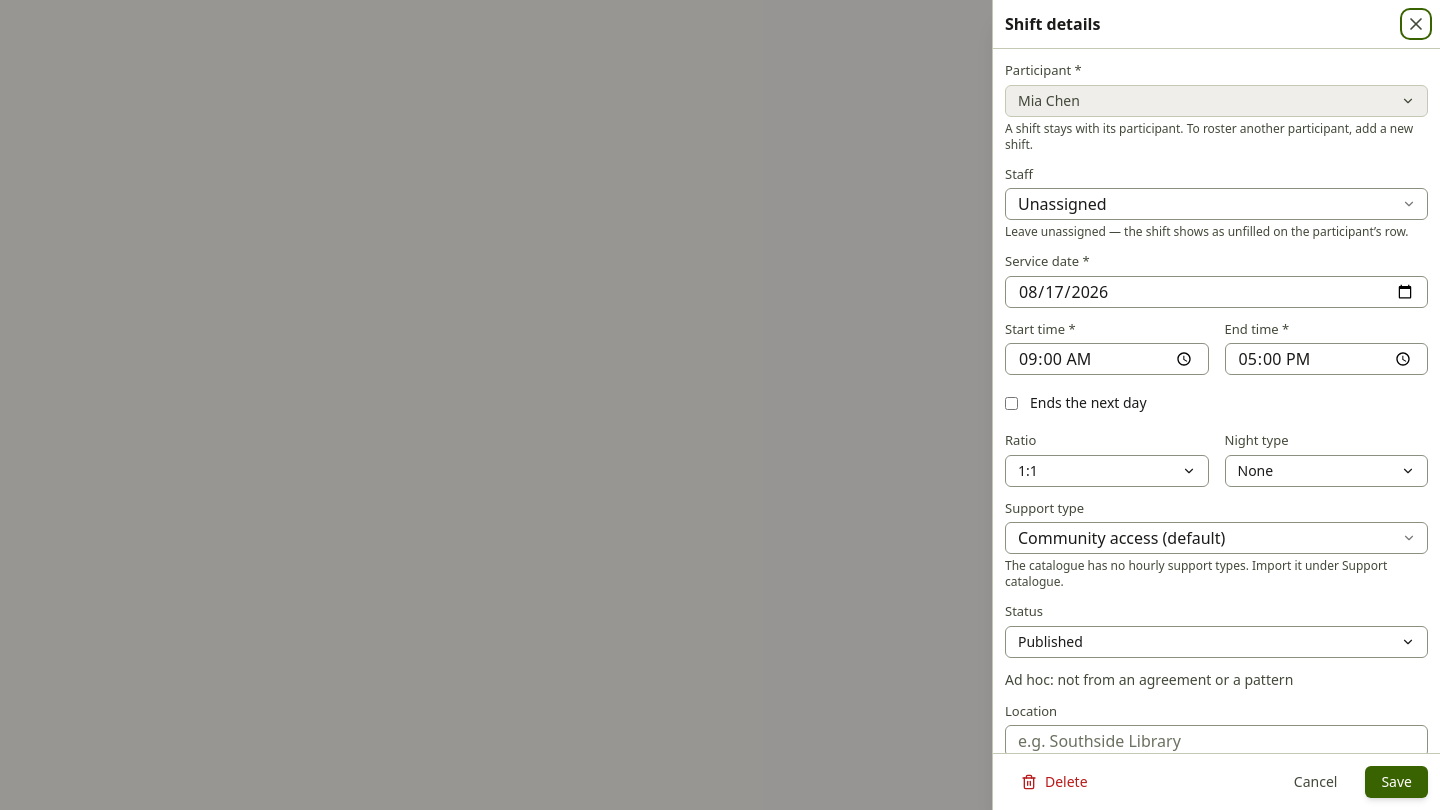
ShiftSlideOver status (PP-8) › lets a Published shift with nobody on it be switched to Draft and back to Published
The width and height of the screenshot is (1440, 810).
Click the button named "Status".
click(1050, 641)  # box [1005, 626, 1428, 658]
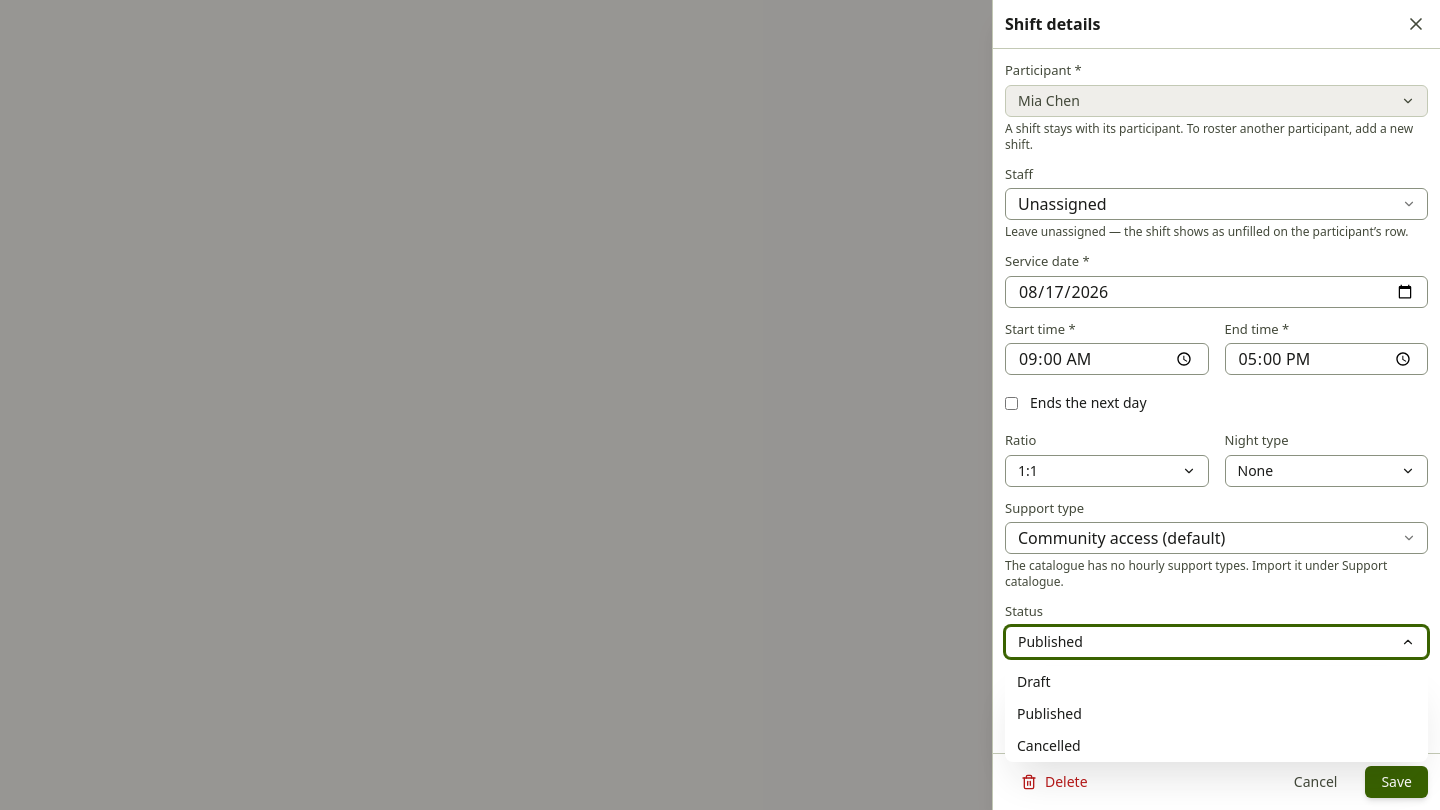
Click the option "Draft".
click(1034, 681)  # box [1017, 672, 1050, 690]
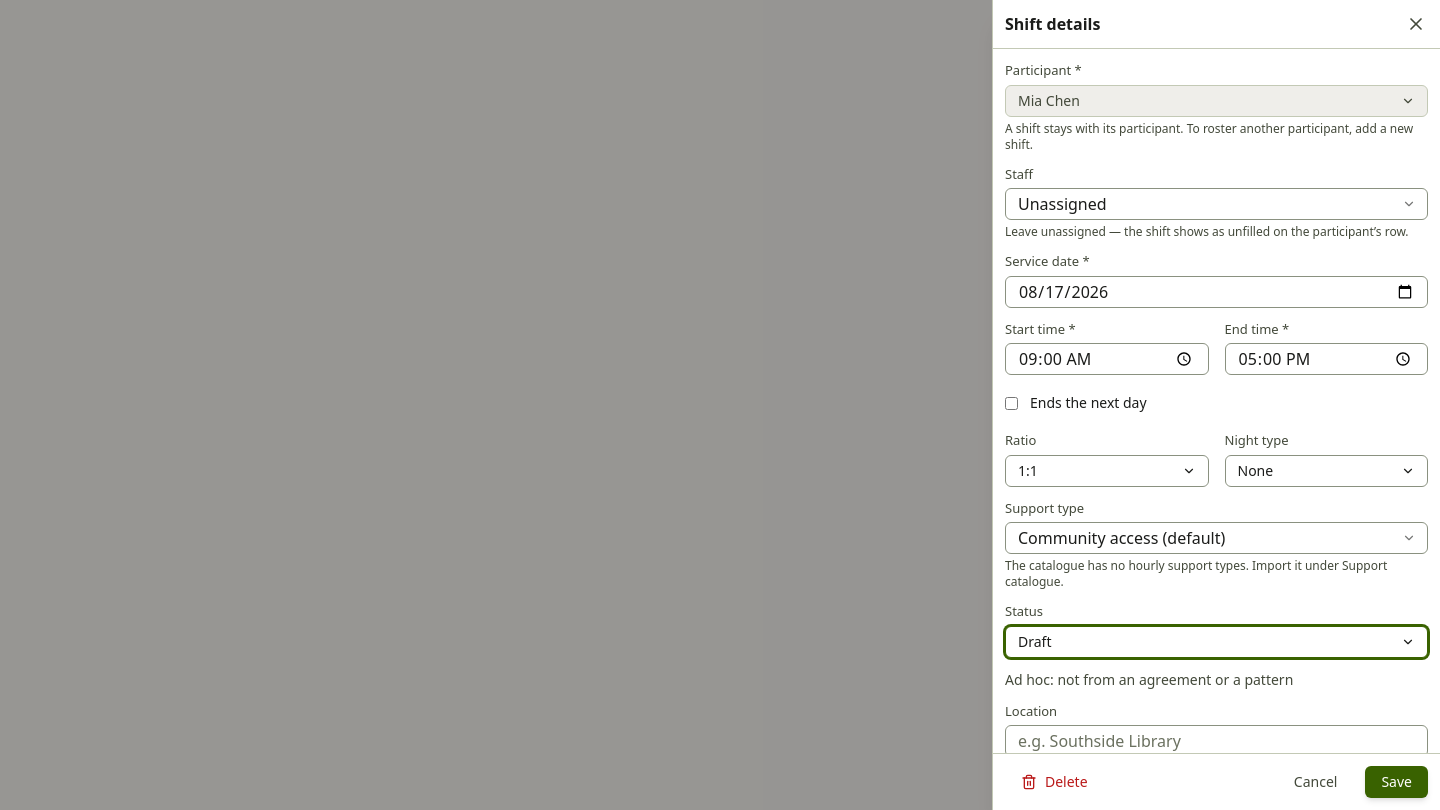
Click the button named "Status".
click(1035, 641)  # box [1005, 626, 1428, 658]
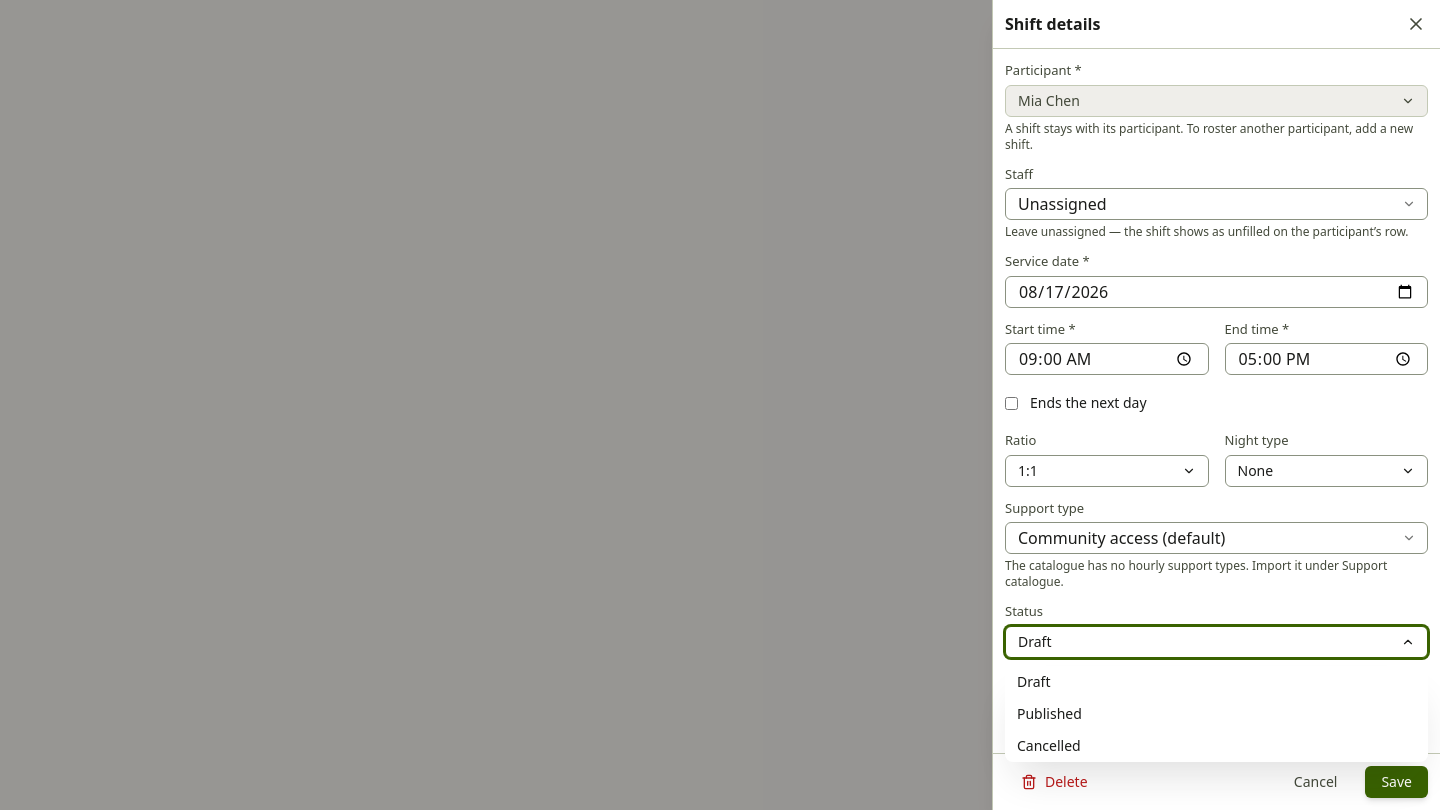
Check: the option "Published" is shown, box [1017, 704, 1082, 722]
